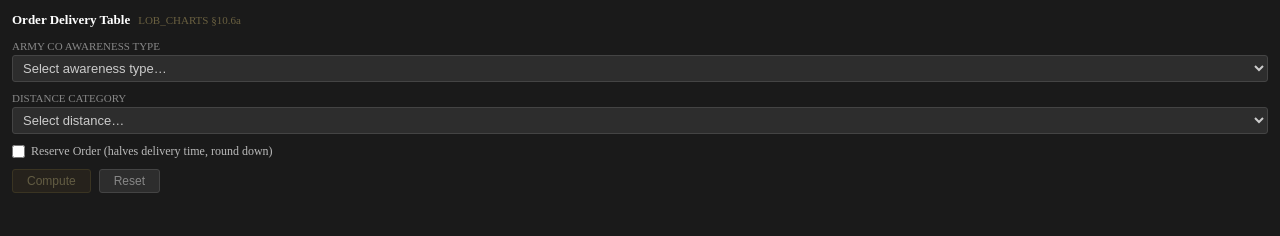
Scenario: OrderDeliveryPanel › displays loading state while POST is in flight
Select "Normal (+2 turns) — SM default" in the dropdown labelled "Army CO Awareness Type" at (640, 68), box x1=12 y1=55 x2=1268 y2=82
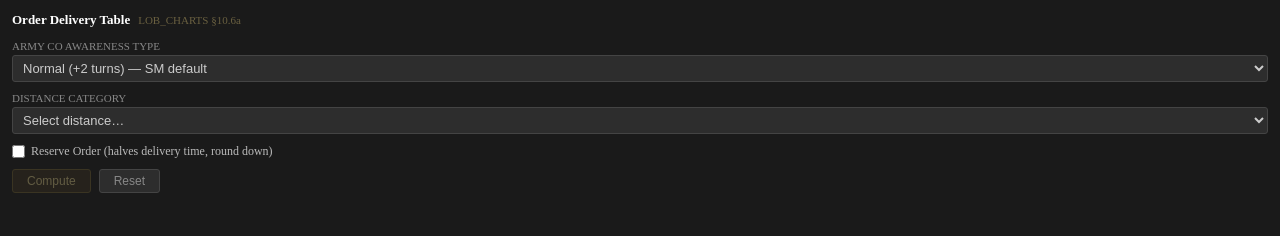
Select "Beyond Command Radius (+2 turns)" in the dropdown labelled "Distance Category" at (640, 120), box x1=12 y1=107 x2=1268 y2=134
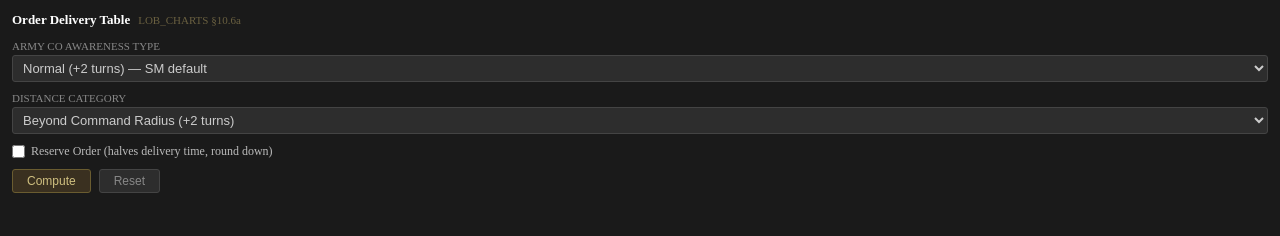
Click the button "Compute" at (51, 181), box x1=12 y1=169 x2=91 y2=193
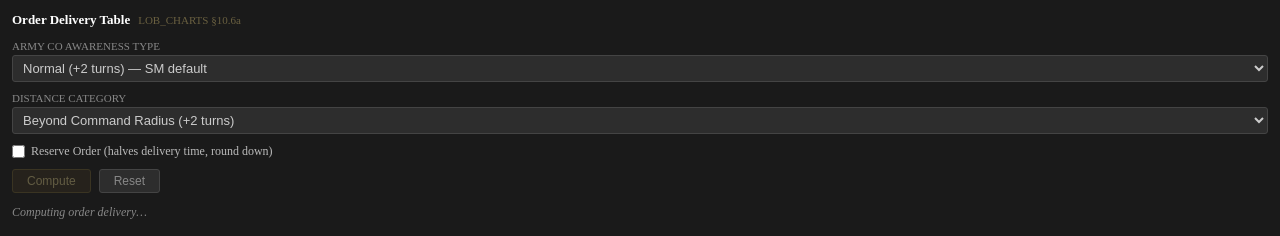
Result: the text "Computing order delivery" is shown at x1=12 y1=205 x2=147 y2=219
